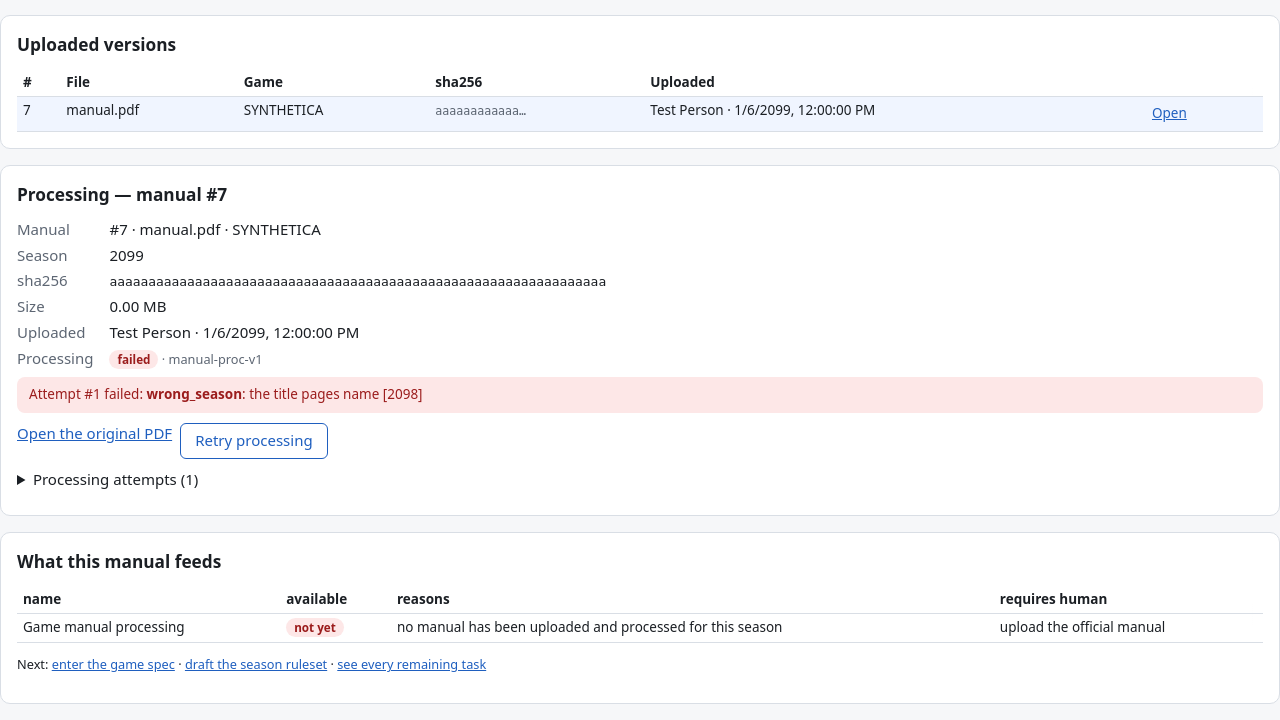
Test: ManualsPage › offers a retry after a failure and shows the error
(page scrolled)
Expected: the button "Retry processing" is shown, [180,423,328,459]
Click the heading "Processing attempts (1)" at (116, 479), box [33,469,198,489]
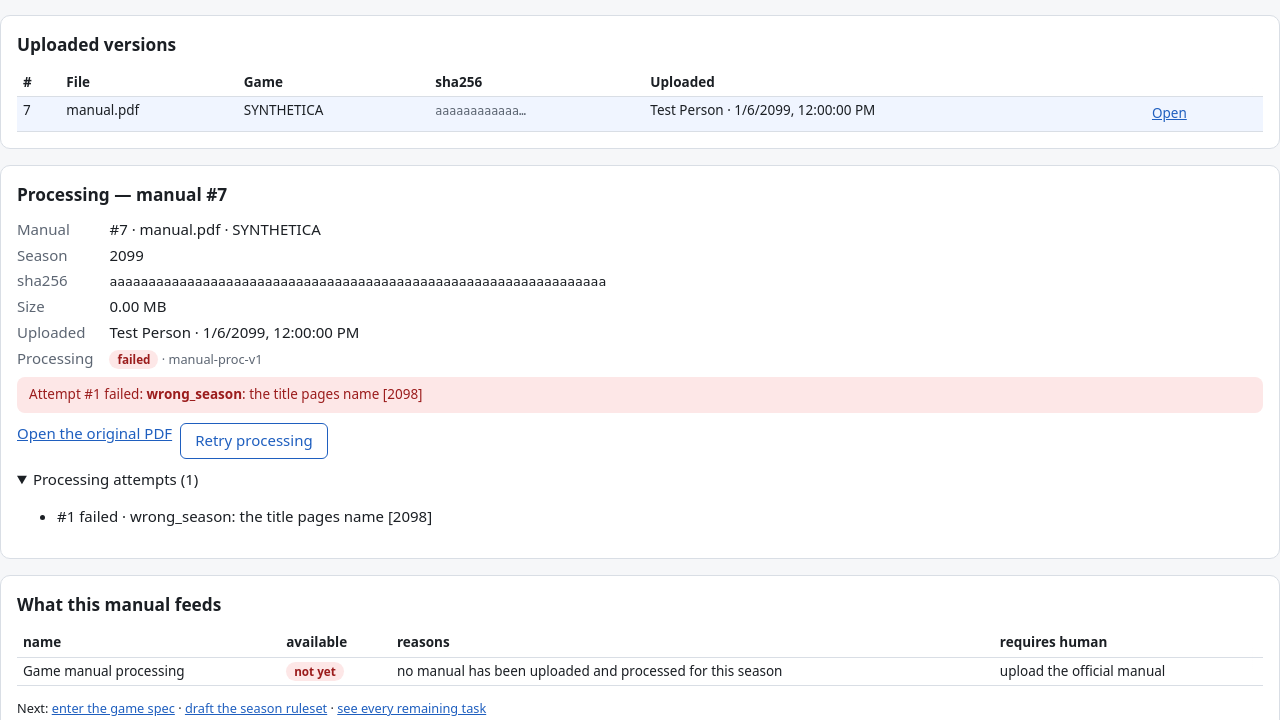
Result: the list item "#1 failed · wrong_season: the title pages name [2098]" is shown at [57,506,432,526]
